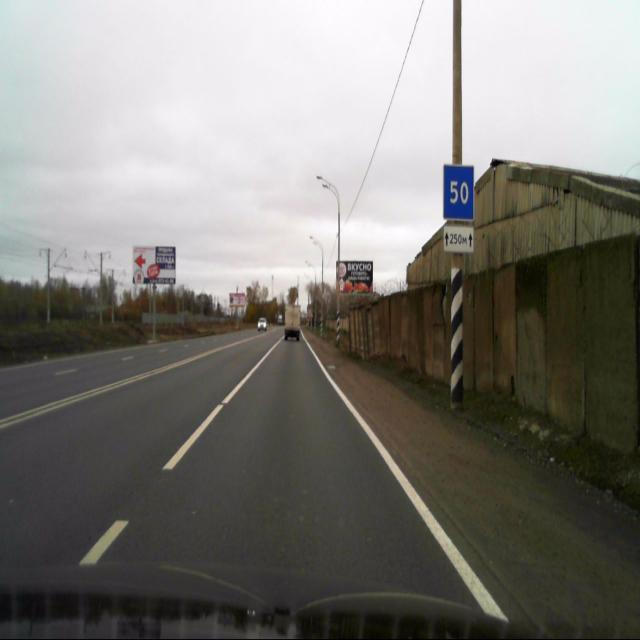road sign: (443, 165, 474, 222), (443, 227, 474, 252)
